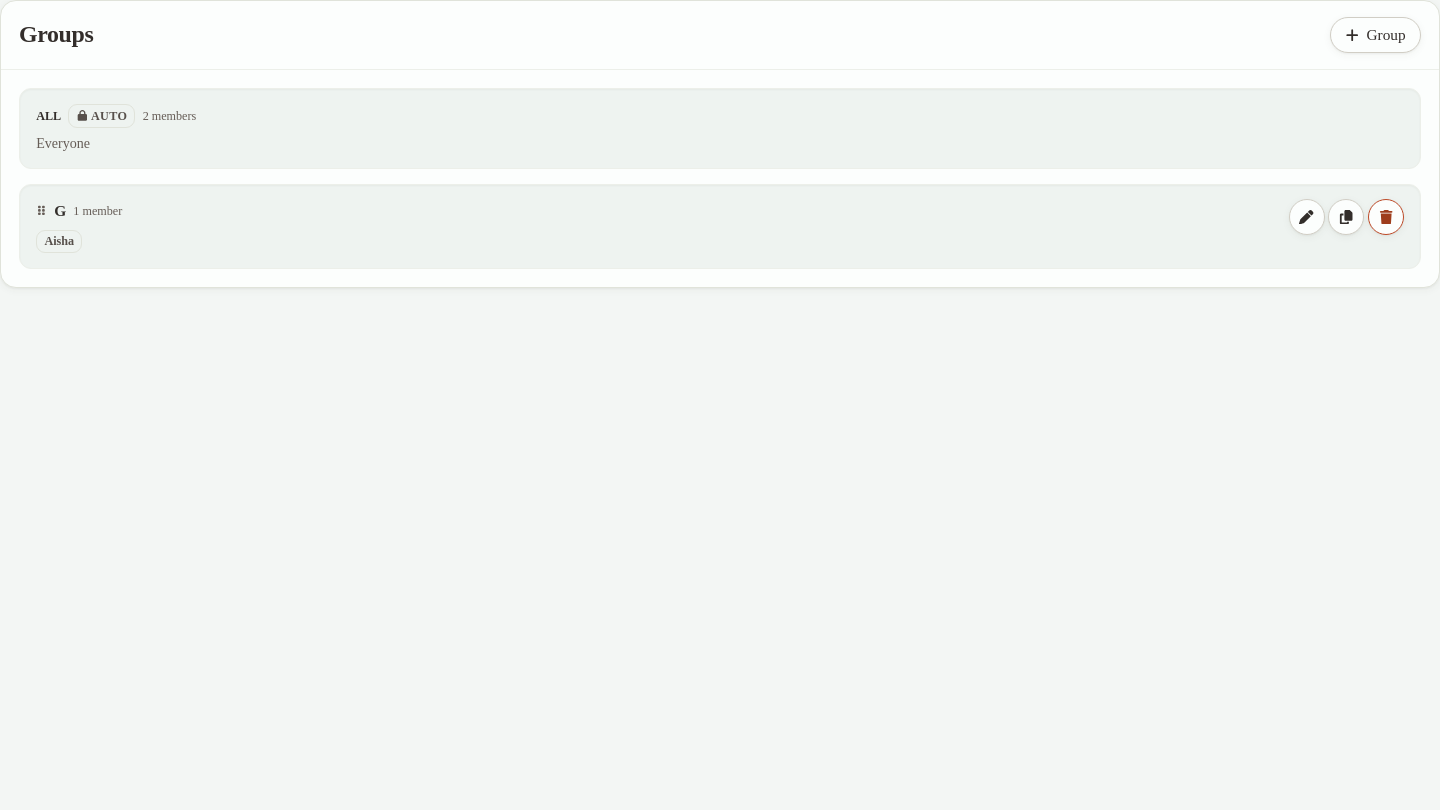
GroupsSection extraction contract — Staff config (defaults) › rejects a stale Save — an external change closes the draft with no write-back
The image size is (1440, 810).
Click the button with test id "group-edit-G": (1307, 217) [1289, 199, 1325, 235]
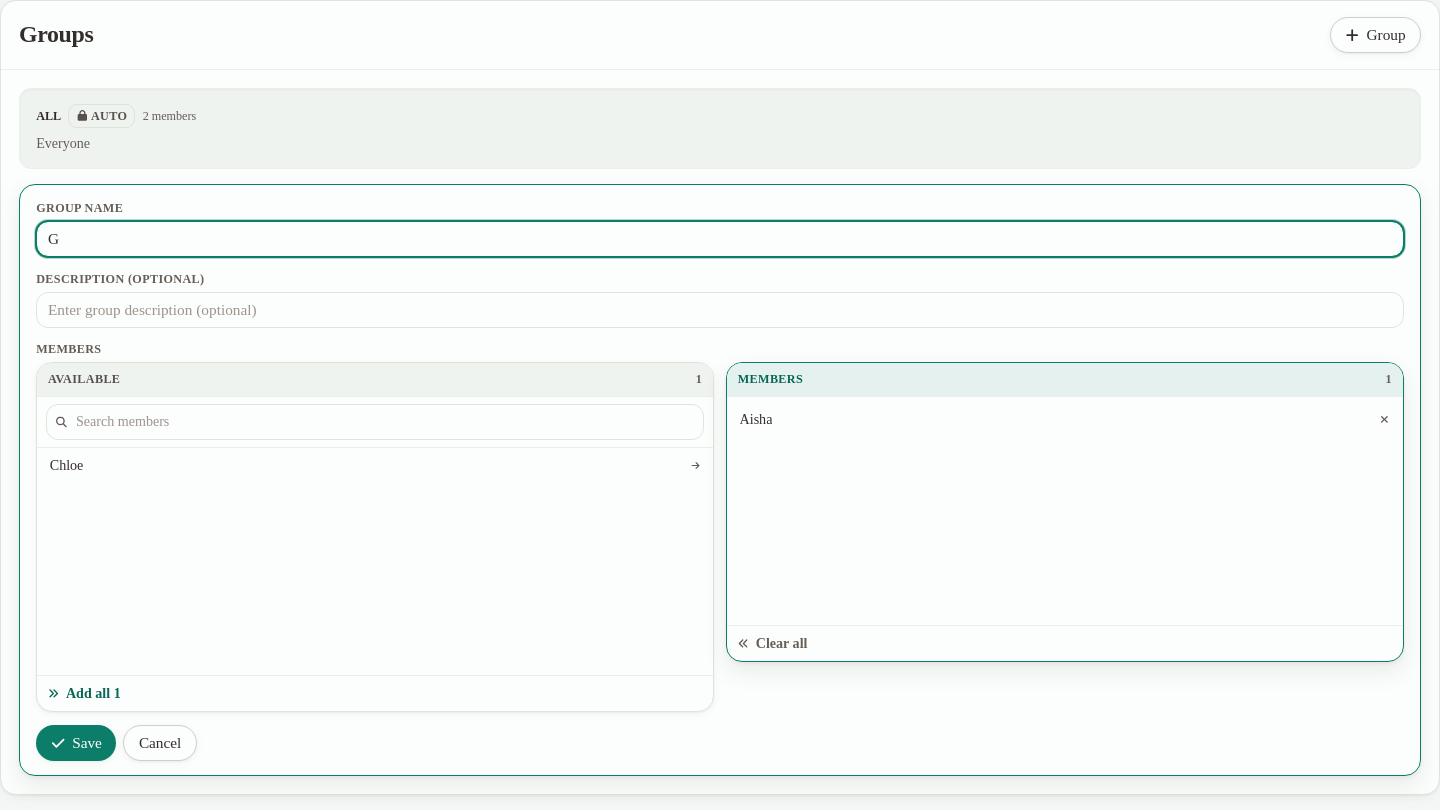
Note: Stage a draft membership change (Chloe) that must NOT be written.
Click the button with aria-label "Add Chloe to group": (67, 465) [43, 448, 708, 483]
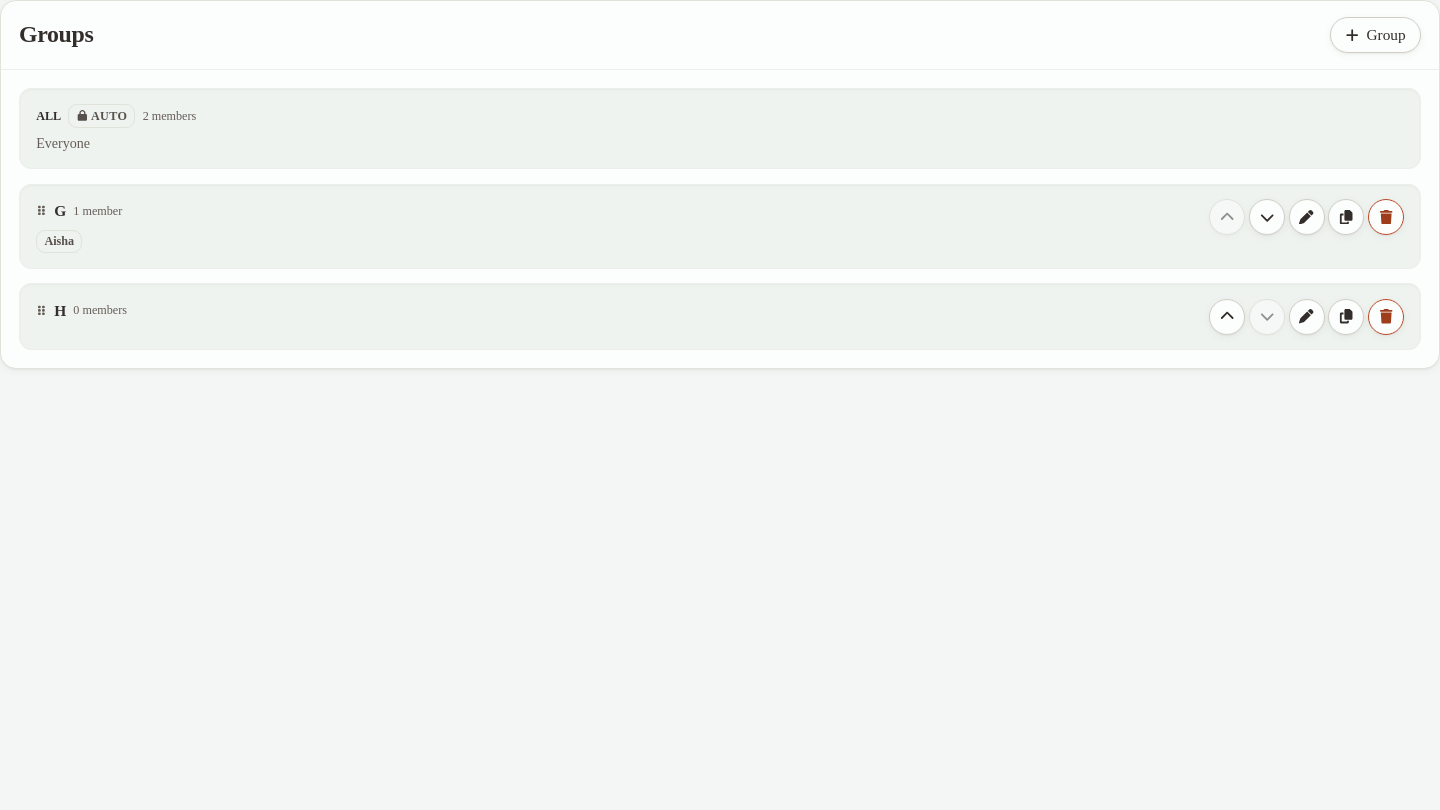
Result: the element with test id "group-edit-form-G" is gone
